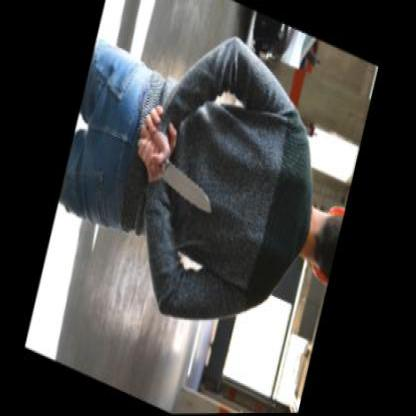knife: (129, 129, 226, 215)
